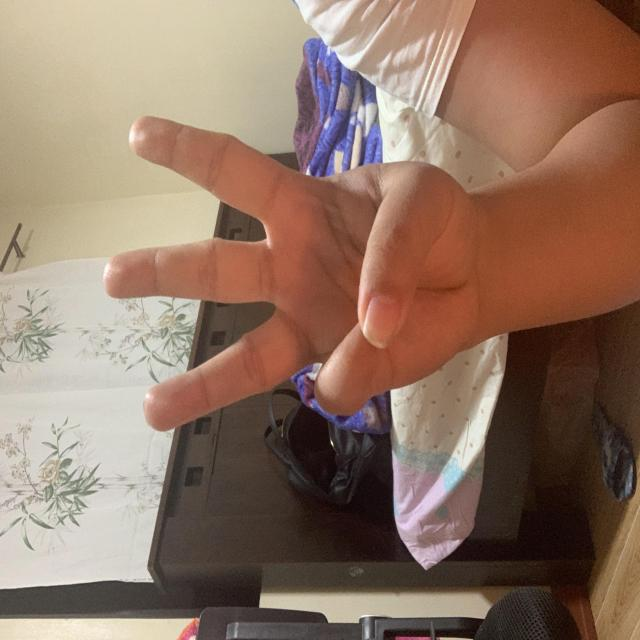W: (116, 101, 437, 482)
